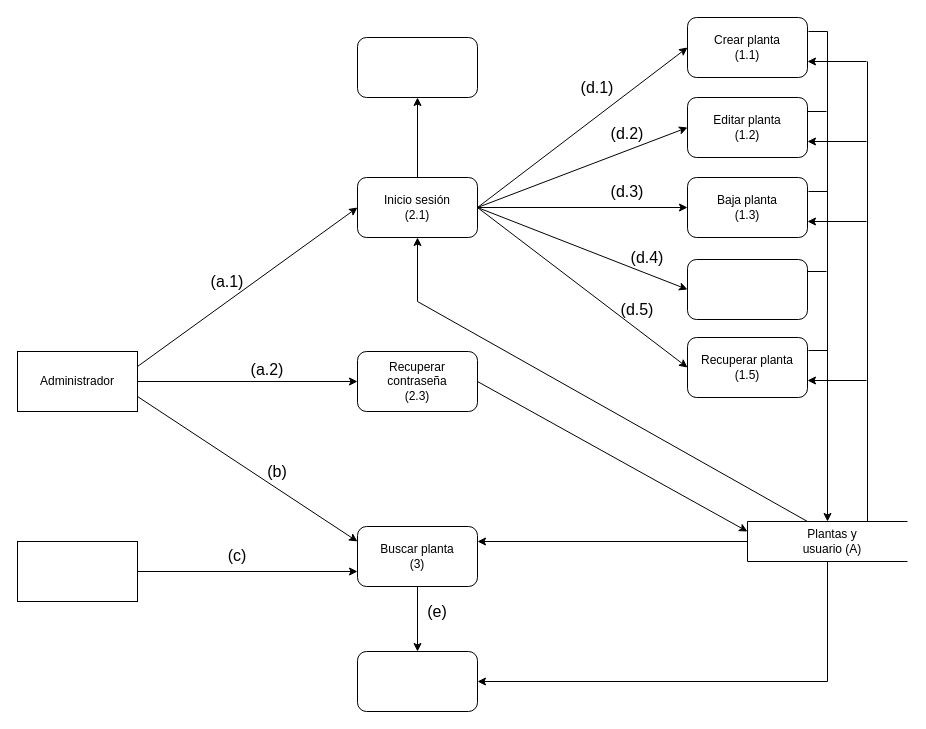
This 926x729 diagram has some shape labels left out. The shapes that lost their labels are listed below. From the top down, each one's box as (x1, y1, x2, y2) in pixels, then its label:
(356, 36, 478, 98): Cierre de sesión (2.2)
(686, 258, 808, 320): Eliminar planta (1.4)
(16, 540, 138, 602): Cliente
(356, 650, 478, 712): Consultar planta (4)
